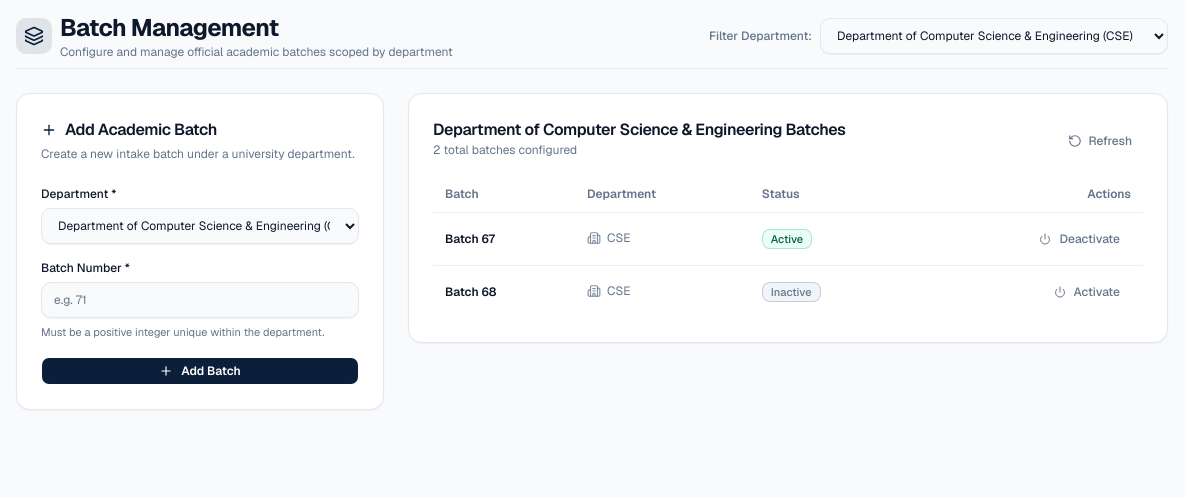
BatchManagementView › validates that batch number must be a positive integer
The image size is (1185, 497).
Expected: the text "Batch 67" is shown, 433,212 -> 575,266
In the number field labelled "Batch Number *": {"x": 200, "y": 300} 41,282 -> 359,318, type "-5"
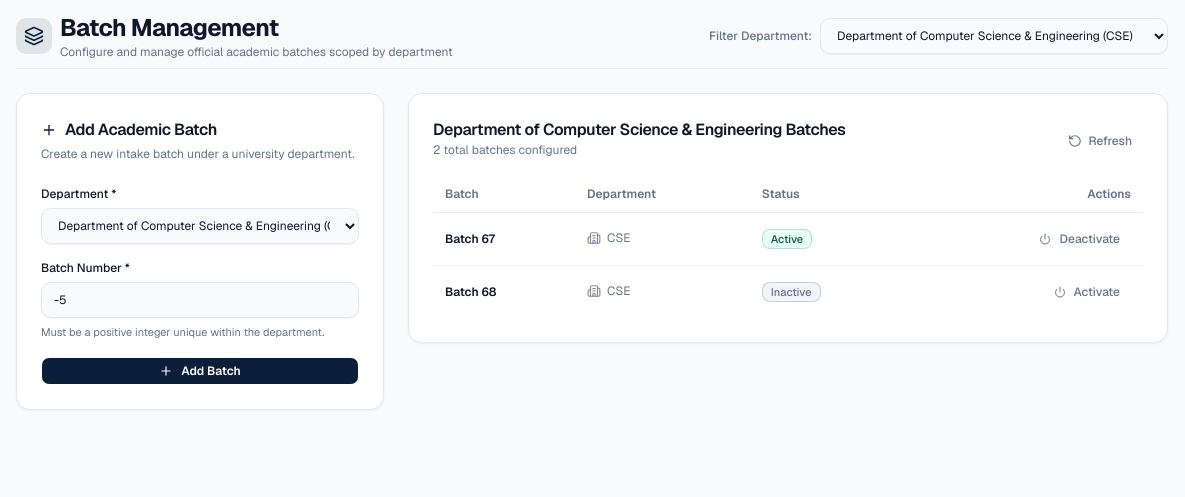
Click the button "Add Batch": {"x": 200, "y": 370} 41,356 -> 359,384
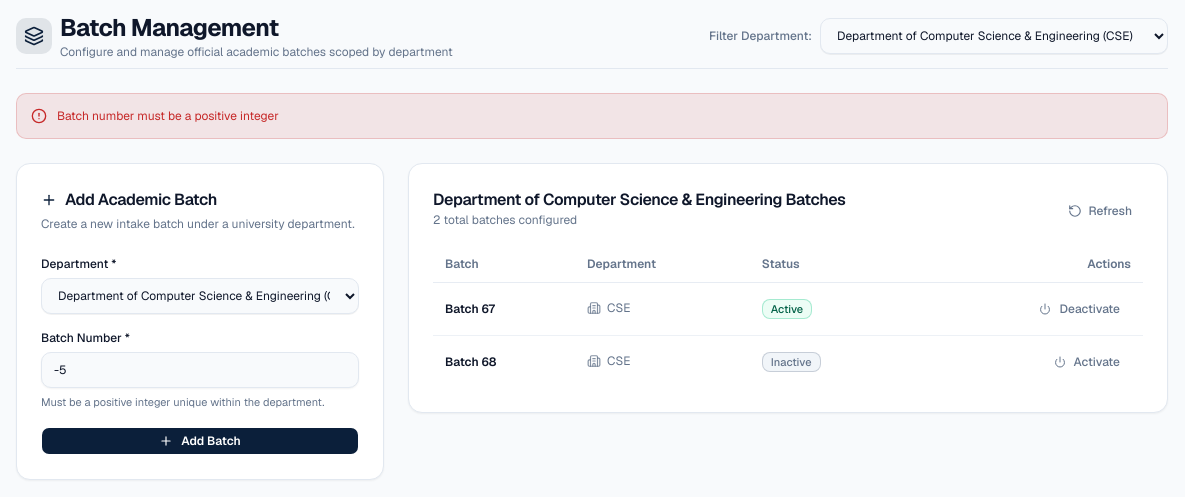
Expected: the text "Batch number must be a positive integer" is shown, 57,108 -> 279,124
